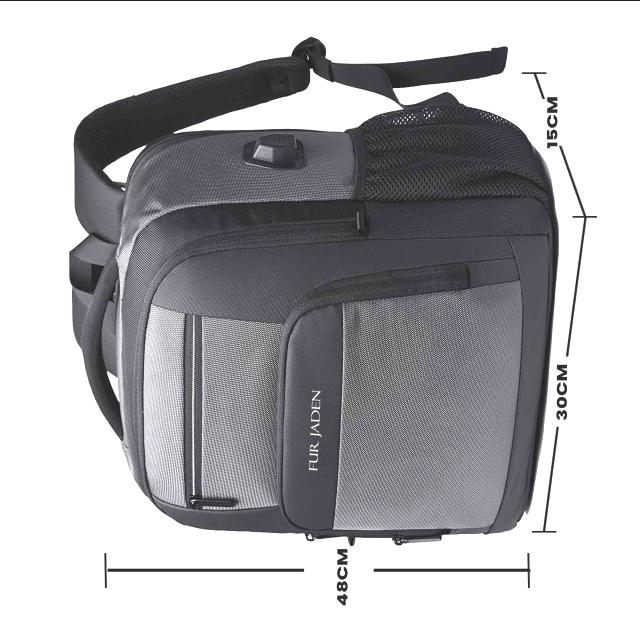backpack: (69, 38, 559, 546)
